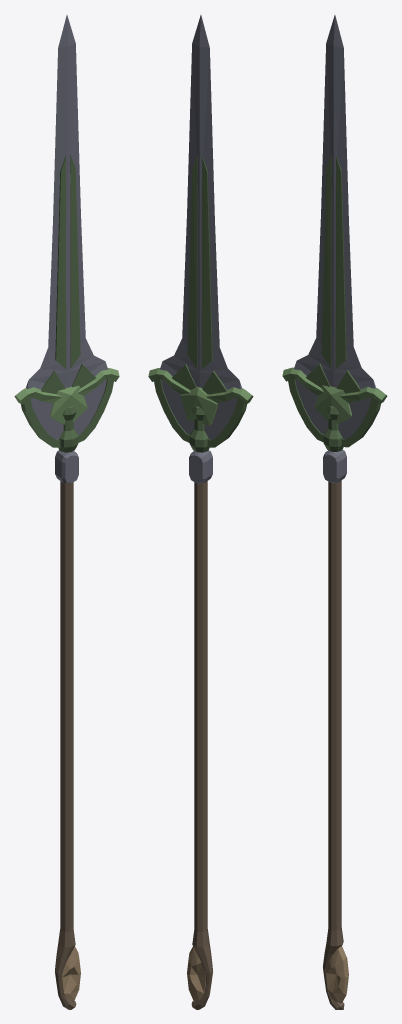
The model's file is Lanca_B04.fbx.
3 renders of one model, left to right at view 1: azimuth 30°, elevation 25°; view 2: azimuth 150°, elevation 25°; view 3: azimuth 330°, elevation 25°, orthographic.
Visible parts, largest first — view 1: polearm_4; view 2: polearm_4; view 3: polearm_4.
Part boxes in pixels (x1=…): polearm_4: x1=14, y1=15, x2=119, y2=1009; polearm_4: x1=148, y1=15, x2=253, y2=1009; polearm_4: x1=282, y1=15, x2=387, y2=1009.
Size of the model in its own units: 21.99 by 204 by 4.43.
